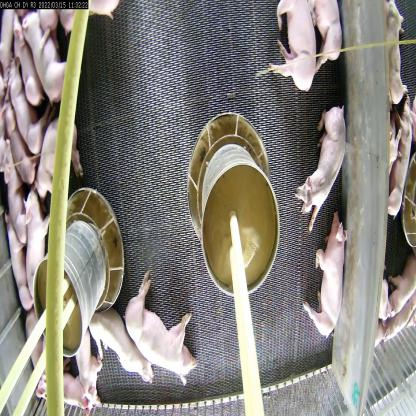Pig: (124, 273, 198, 382), (296, 103, 348, 231), (305, 213, 346, 348), (87, 311, 157, 387), (264, 0, 320, 95), (14, 176, 51, 302), (21, 19, 70, 102), (4, 67, 44, 155), (0, 154, 29, 242), (309, 0, 344, 69)
